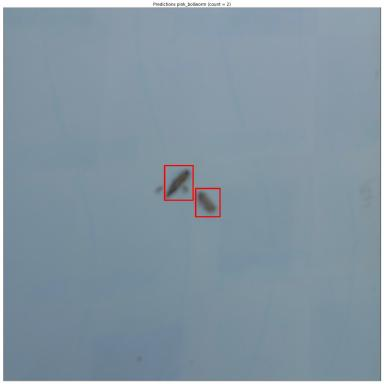pbw: (292, 288, 331, 334), (343, 328, 384, 368)
